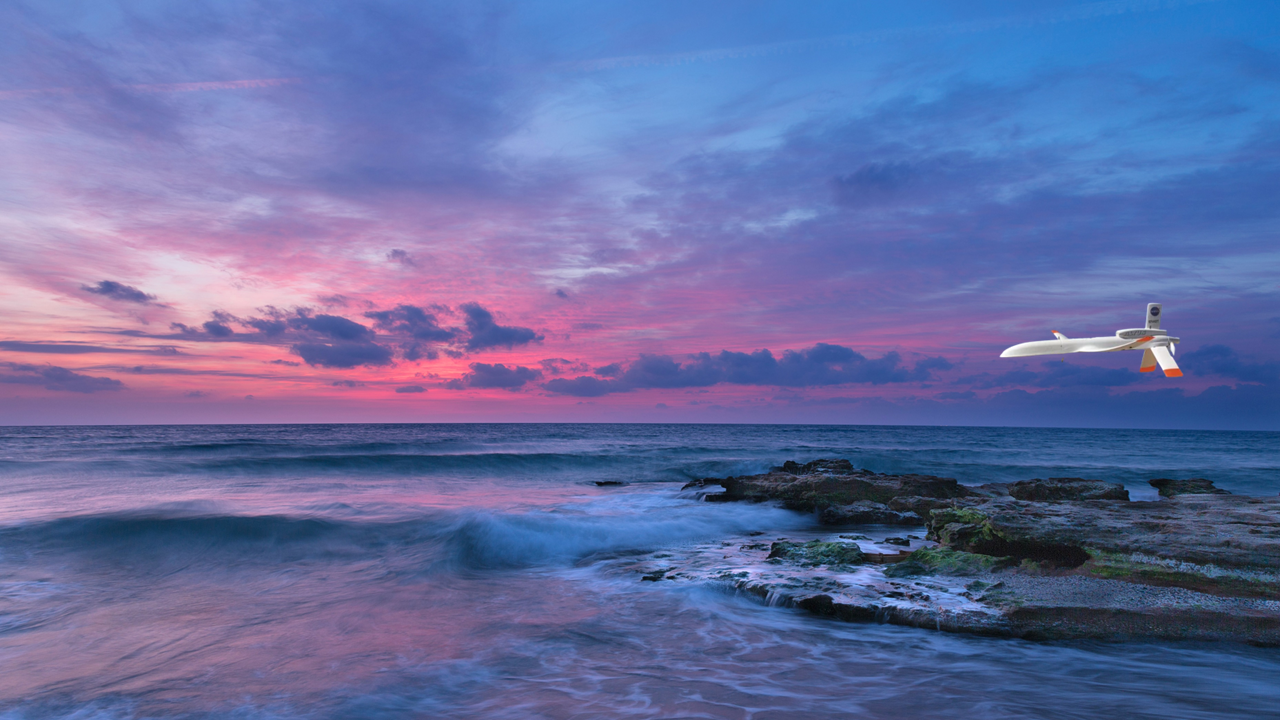military drone: (999, 301, 1184, 377)
